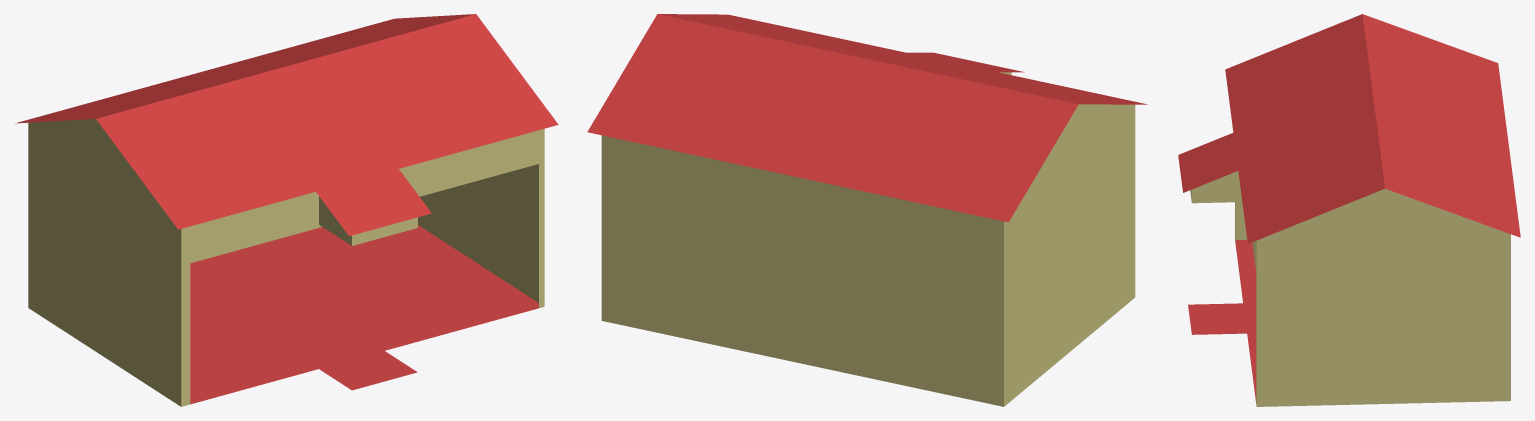
3 views of the same model, side by side, from view 1: azimuth 30°, elevation 25°; view 2: azimuth 150°, elevation 25°; view 3: azimuth 270°, elevation 25° (orthographic). The views are drawn at different scales.
Bounding box in the file's own units: 22.97 × 18.38 × 12.98.
